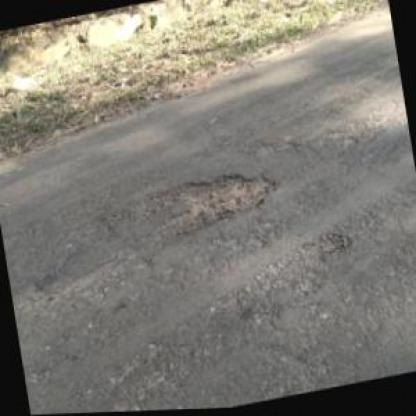pothole: (108, 162, 286, 250), (302, 229, 356, 269)
